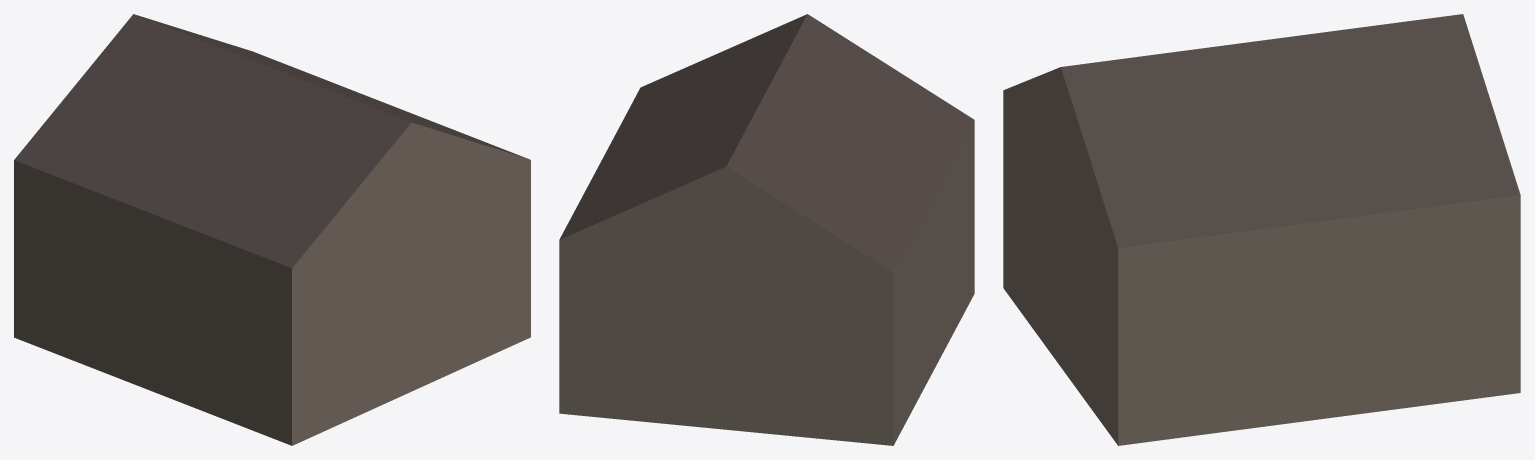
3 renders of one model, left to right at view 1: azimuth 30°, elevation 25°; view 2: azimuth 150°, elevation 25°; view 3: azimuth 270°, elevation 25°, orthographic. The views are drawn at different scales.
Visible parts, largest first — view 1: HP-w1198840863; view 2: HP-w1198840863; view 3: HP-w1198840863.
Boxes of the visible parts, <box> form: HP-w1198840863: <box>14,14,530,445</box>; HP-w1198840863: <box>559,14,974,445</box>; HP-w1198840863: <box>1003,14,1520,445</box>.
Size of the model in its own units: 13.72 by 9.1 by 14.23.
